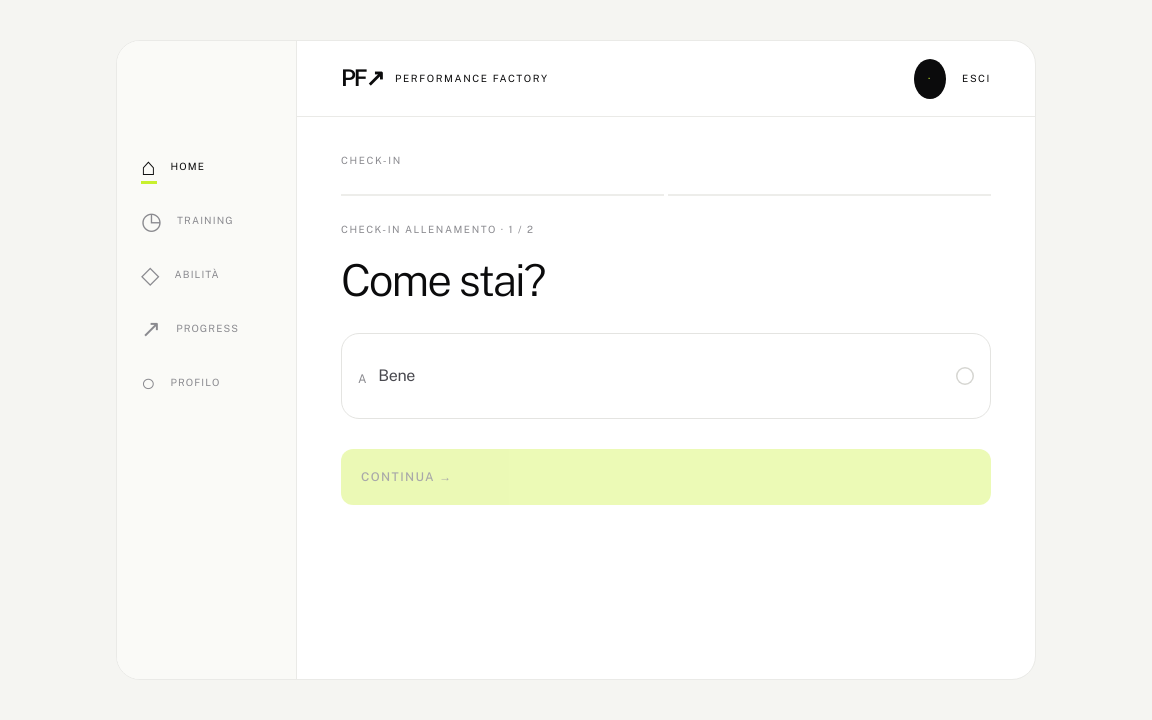
Test case: PF4 athlete experience › uses one check-in question at a time and submits existing option IDs
Click the button "A Bene". click: (397, 375)
box: [341,333,991,419]
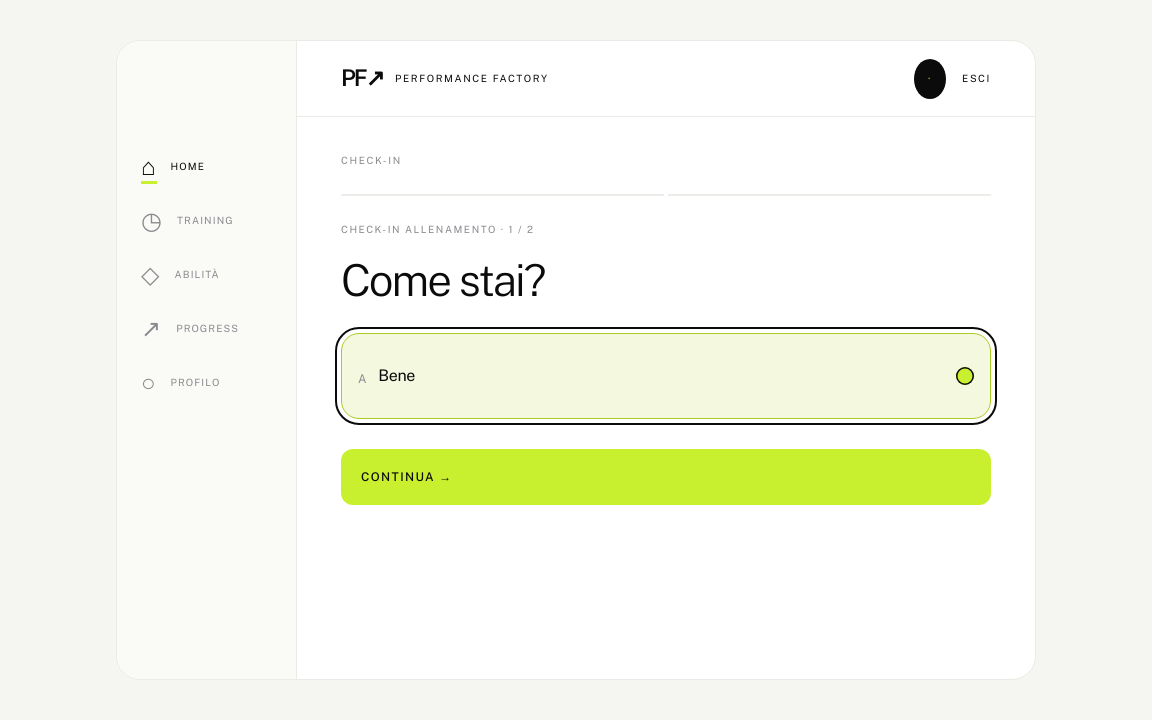
Expected: the text "Come recuperi?" is not shown
Click the button "Continua →". click: (407, 477)
box: [341,449,991,505]
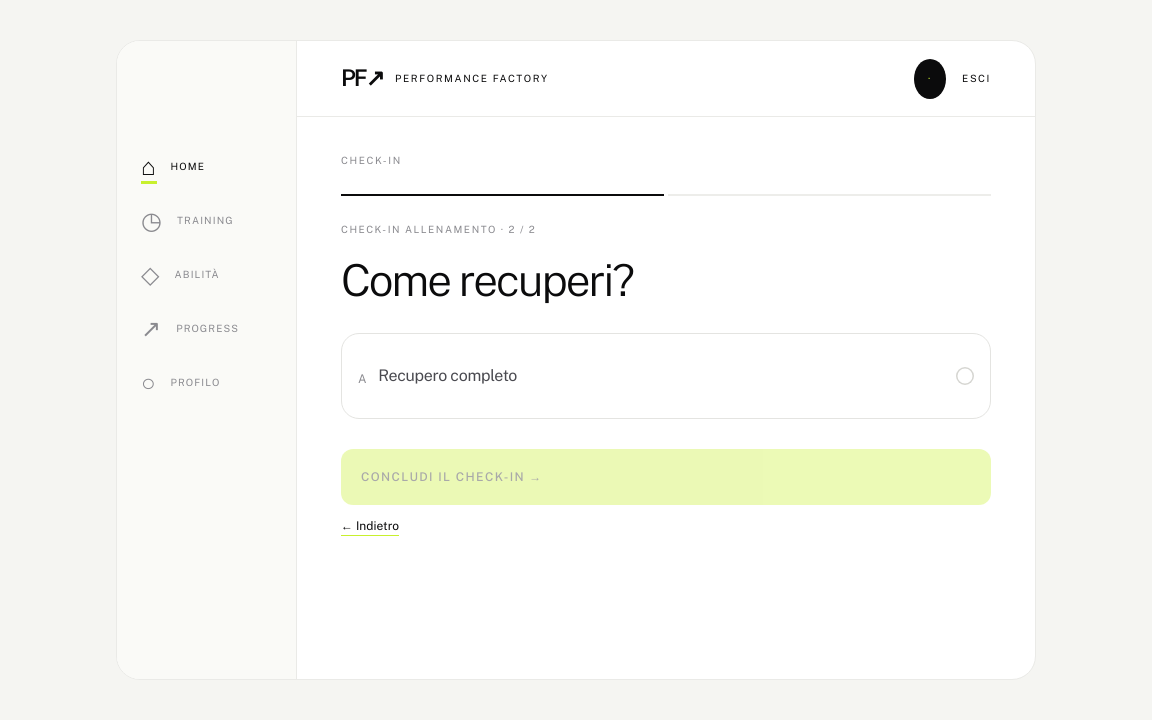
Click the button "A Recupero completo". click: (448, 375)
box: [341,333,991,419]
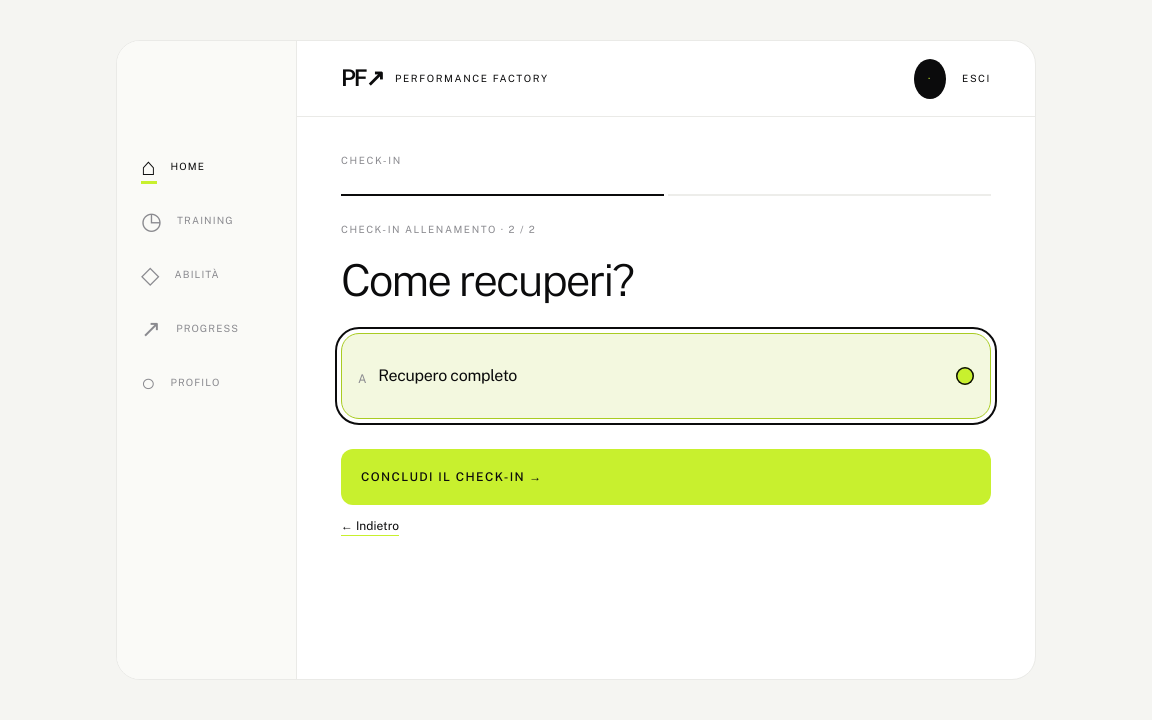
Click the button "Concludi il check-in →". click: (452, 477)
box: [341,449,991,505]
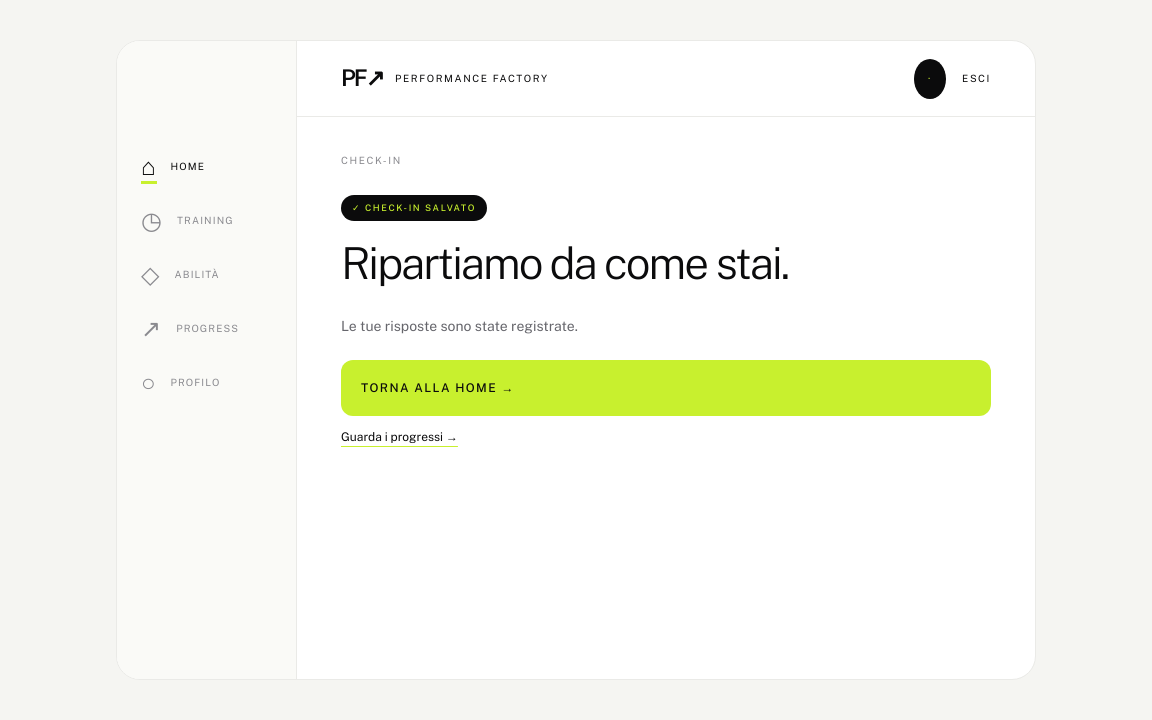
Now the text "✓ Check-in salvato" is shown, box [341,195,487,220]
